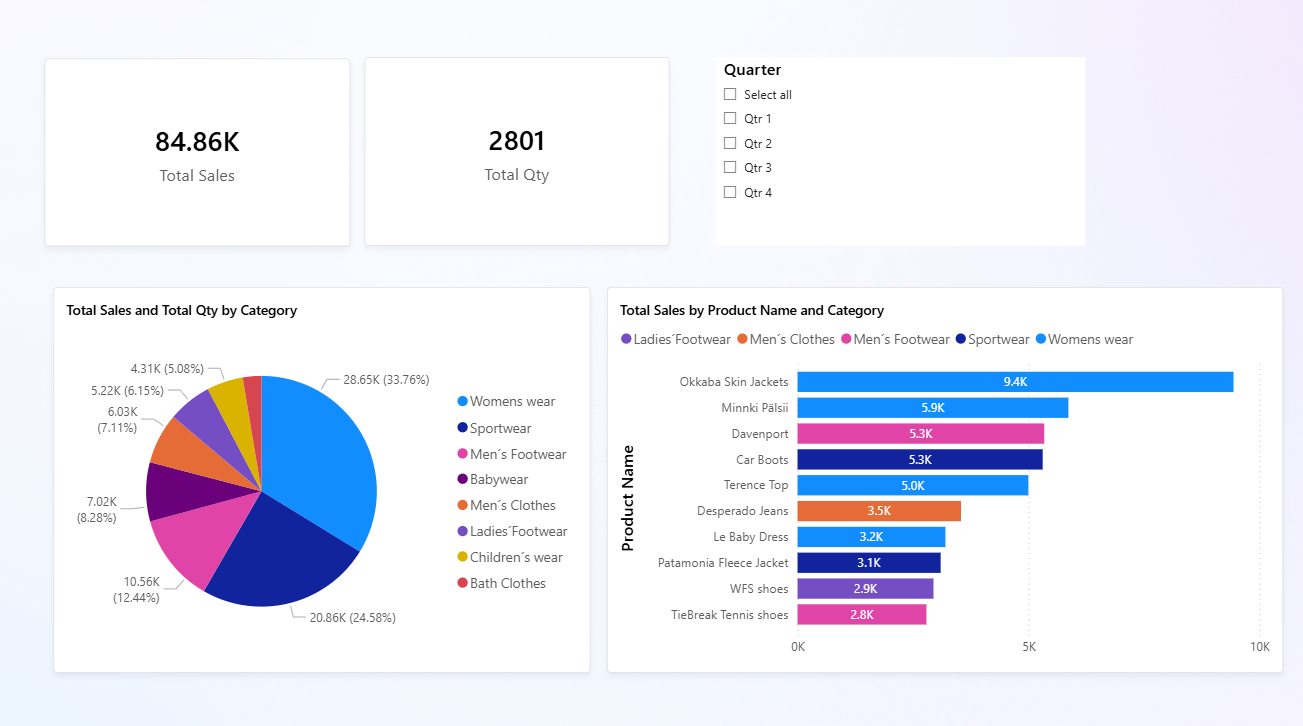

The dashboard page shown, as its layout file describes it:
{"tool":"powerbi","page":{"name":"Page 1","canvas":[1280,720],"ordinal":0},"visuals":[{"type":"card","fields":{"Values":["tOrders.Total Sales"]},"box":[46.7,60.4,299.1,183.9],"z":0},{"type":"card","fields":{"Values":["tOrders.Total Qty"]},"box":[359.5,58.7,298.4,184.6],"z":1000},{"type":"pieChart","fields":{"Category":["tCategories.Category"],"Y":["tOrders.Total Sales"]},"box":[55,283.7,525.8,377.9],"z":2000},{"type":"barChart","fields":{"Category":["tOrders.Product Name"],"Y":["tOrders.Total Sales"],"Series":["tCategories.Category"]},"box":[596.7,283.7,661.6,377.9],"z":3000},{"type":"slicer","fields":{"Values":["tOrders.OrderDate.Variation.Date Hierarchy.Quarter"]},"box":[703.1,58.7,362,184.6],"z":3001}]}

Visuals, with their boxes in screenshot pixels (x1, y1, x2, y2), scaled from the page's 1280x720 canvas onto the 1303x726 screenshot:
card - tOrders.Total Sales: box=[48, 61, 352, 246]
card - tOrders.Total Qty: box=[366, 59, 670, 245]
pieChart - tCategories.Category x tOrders.Total Sales: box=[56, 286, 591, 667]
barChart - tOrders.Product Name x tOrders.Total Sales: box=[607, 286, 1281, 667]
slicer - tOrders.OrderDate.Variation.Date Hierarchy.Quarter: box=[716, 59, 1084, 245]
